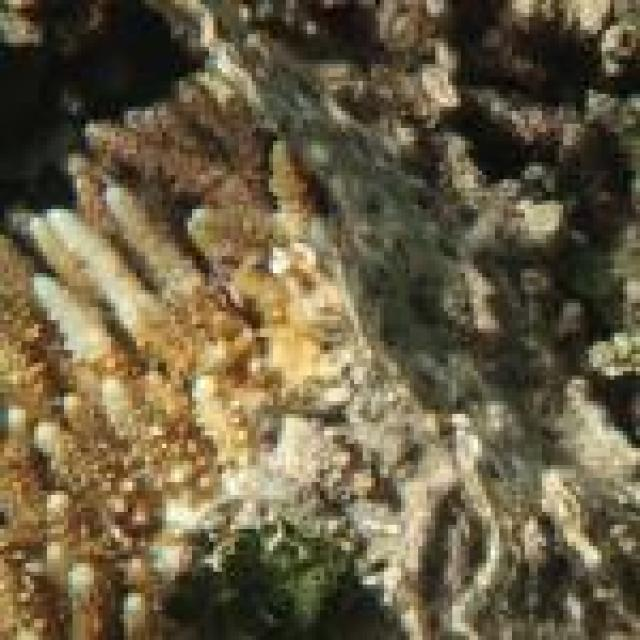Healthy Coral: (0, 60, 352, 640)
